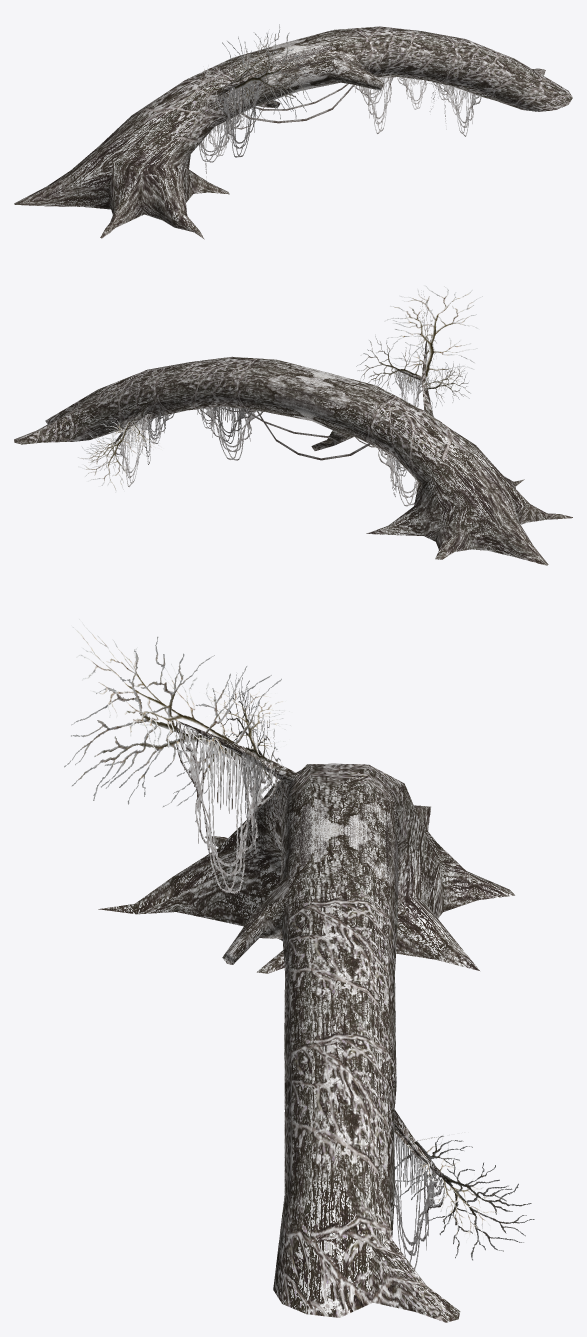
File: xuedi_shu02.FBX
3 views of the same model, one above another, from view 1: azimuth 30°, elevation 25°; view 2: azimuth 150°, elevation 25°; view 3: azimuth 270°, elevation 25° (orthographic). The views are drawn at different scales.
Parts seen in each view (by area): view 1: TRI_N_sishu_001; view 2: TRI_N_sishu_001; view 3: TRI_N_sishu_001.
Boxes of the visible parts, bbox=[...] form: TRI_N_sishu_001: bbox=[14, 24, 572, 239]; TRI_N_sishu_001: bbox=[14, 285, 572, 565]; TRI_N_sishu_001: bbox=[64, 619, 534, 1322].
Size of the model in its own units: 21.17 by 9.09 by 9.47.
